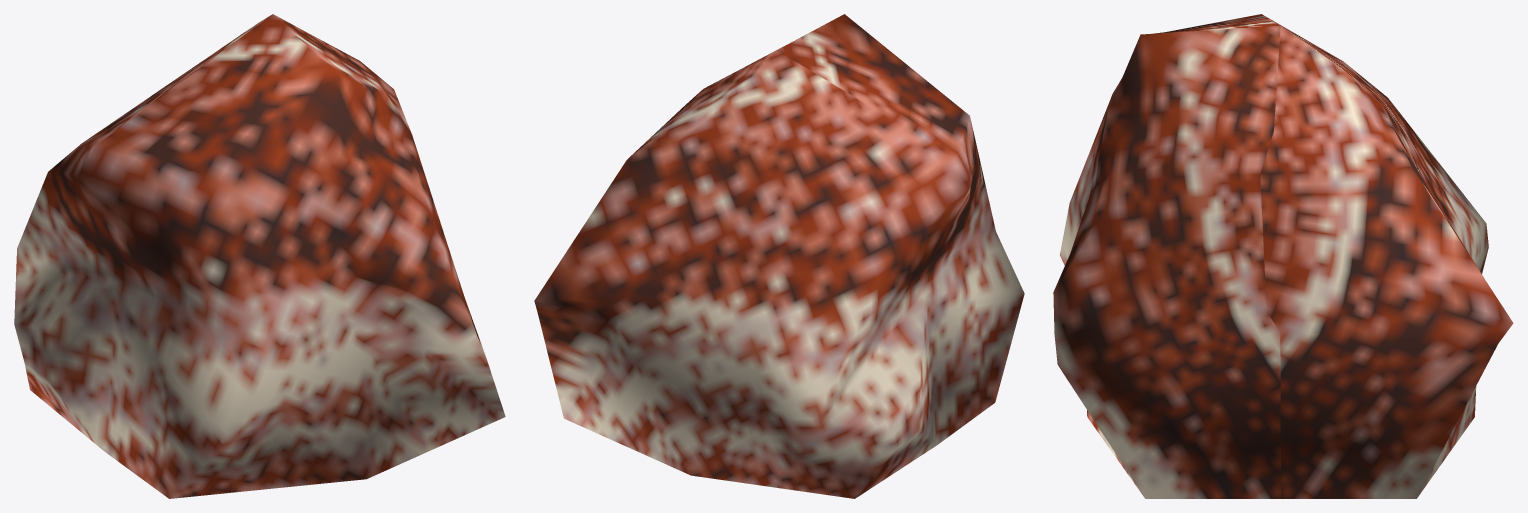
The model's file is Rocks_02.fbx.
3 renders of one model, left to right at view 1: azimuth 30°, elevation 25°; view 2: azimuth 150°, elevation 25°; view 3: azimuth 270°, elevation 25°, orthographic. The views are drawn at different scales.
Parts seen in each view (by area): view 1: Cube.002; view 2: Cube.002; view 3: Cube.002.
Part boxes in pixels (x1,y1,x2,y2): Cube.002: (14,14,505,498); Cube.002: (534,14,1024,498); Cube.002: (1053,14,1513,498).
Size of the model in its own units: 219 by 224 by 237.
